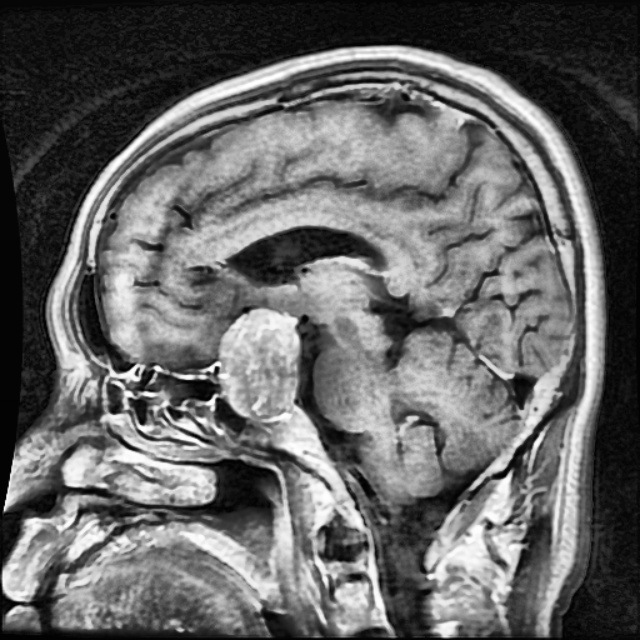Pituitary: (218, 307, 298, 423)
